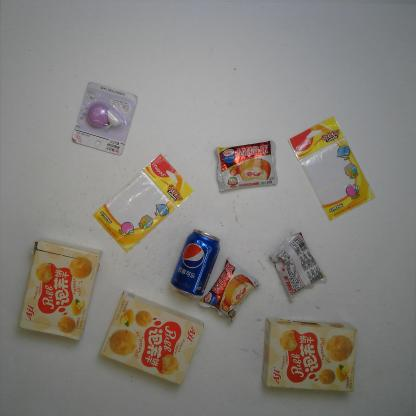Dessert: (98, 291, 204, 386), (18, 237, 102, 340), (262, 317, 358, 393), (199, 257, 261, 325), (268, 232, 327, 302), (213, 140, 280, 192)
Drink: (170, 229, 220, 299)
Stationery: (92, 154, 195, 253), (289, 116, 376, 221), (71, 82, 139, 155)
